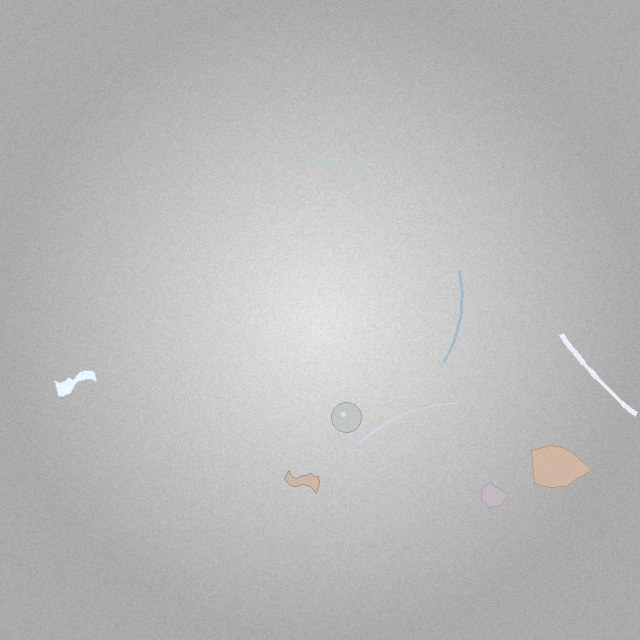fiber: (556, 329, 639, 420), (358, 402, 459, 446), (441, 268, 465, 366), (302, 160, 378, 181)
film: (55, 370, 97, 397), (285, 471, 320, 493)
fragment: (531, 445, 591, 488), (481, 483, 507, 508)
pellet: (332, 403, 361, 432)
